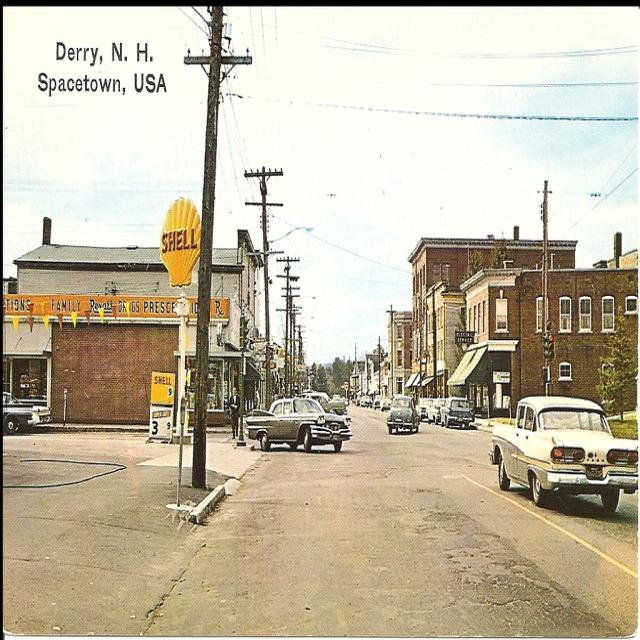car: (246, 395, 349, 455), (386, 395, 414, 434)
